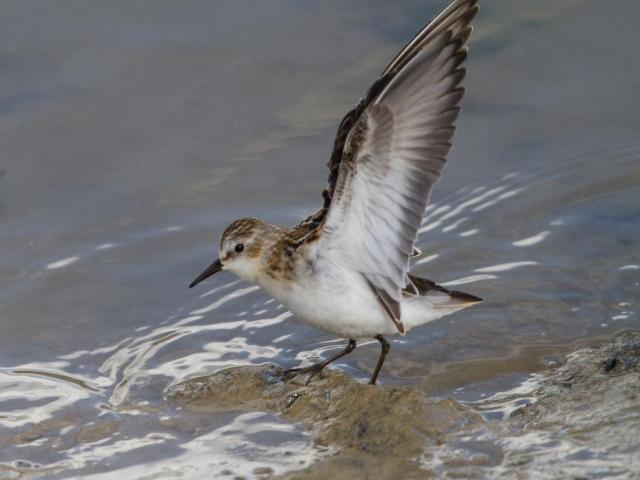Bird: (188, 0, 484, 384)
